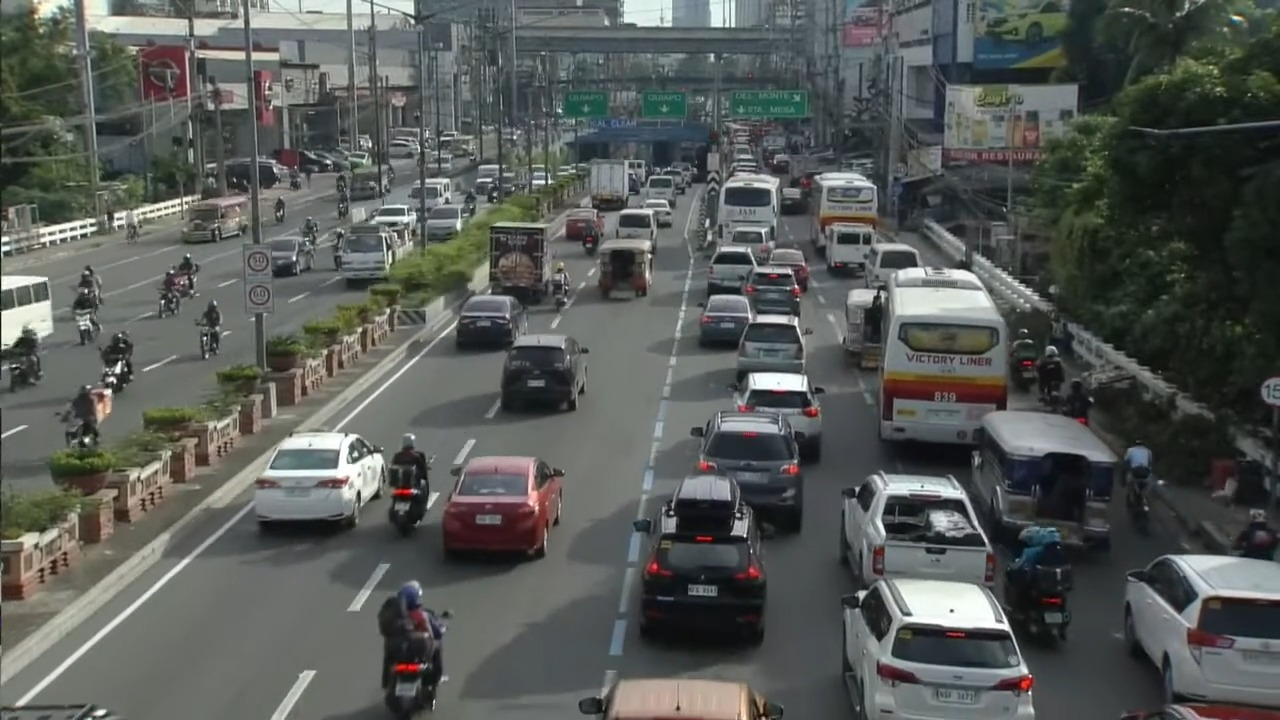bus: (878, 267, 1007, 444), (810, 173, 879, 255), (716, 175, 780, 241), (0, 275, 53, 347)
car: (842, 579, 1035, 719), (1124, 554, 1279, 707), (633, 473, 766, 643), (690, 411, 803, 532), (253, 432, 386, 530), (441, 456, 564, 557), (578, 677, 783, 719), (729, 372, 824, 461), (499, 333, 588, 410), (735, 314, 811, 381), (455, 295, 527, 348), (981, 0, 1067, 44), (744, 265, 802, 315), (698, 295, 754, 346), (1119, 702, 1279, 719), (706, 244, 756, 295), (723, 224, 775, 263), (767, 248, 809, 291), (269, 237, 313, 275), (425, 204, 468, 241), (566, 208, 603, 241), (367, 204, 415, 227), (641, 199, 673, 227), (792, 171, 821, 200), (312, 150, 350, 171), (780, 187, 807, 214), (659, 168, 687, 193), (387, 140, 420, 158), (672, 161, 693, 186), (769, 154, 791, 175), (473, 178, 495, 199), (346, 151, 370, 169), (729, 163, 759, 176)
motorcycle: (1004, 565, 1071, 641), (385, 659, 437, 719), (388, 465, 429, 536), (57, 411, 96, 449), (1126, 477, 1149, 532), (8, 356, 38, 391), (73, 309, 97, 345), (196, 323, 219, 359), (101, 360, 126, 393), (1012, 357, 1036, 391), (157, 287, 180, 318), (1039, 387, 1063, 413), (178, 268, 197, 298), (332, 230, 344, 269), (552, 282, 567, 310), (582, 236, 598, 256), (463, 196, 477, 217), (301, 227, 317, 244), (126, 225, 140, 244), (337, 203, 350, 220), (274, 206, 284, 223), (289, 176, 301, 190)
truck: (840, 473, 996, 588), (489, 222, 551, 304), (335, 223, 412, 286), (588, 159, 629, 210), (0, 703, 125, 719)
